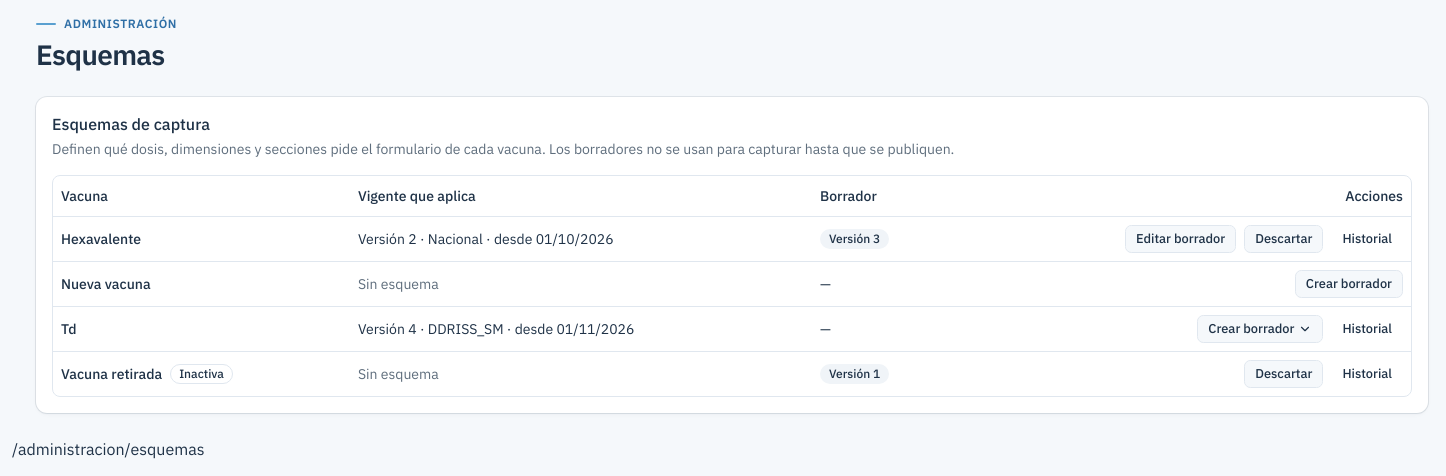
Test: crear un borrador › con vigente, "Empezar vacío" va al editor con origen=vacio
Press Enter in the button with aria-label "Crear borrador de TD", box [1197,315,1324,343]
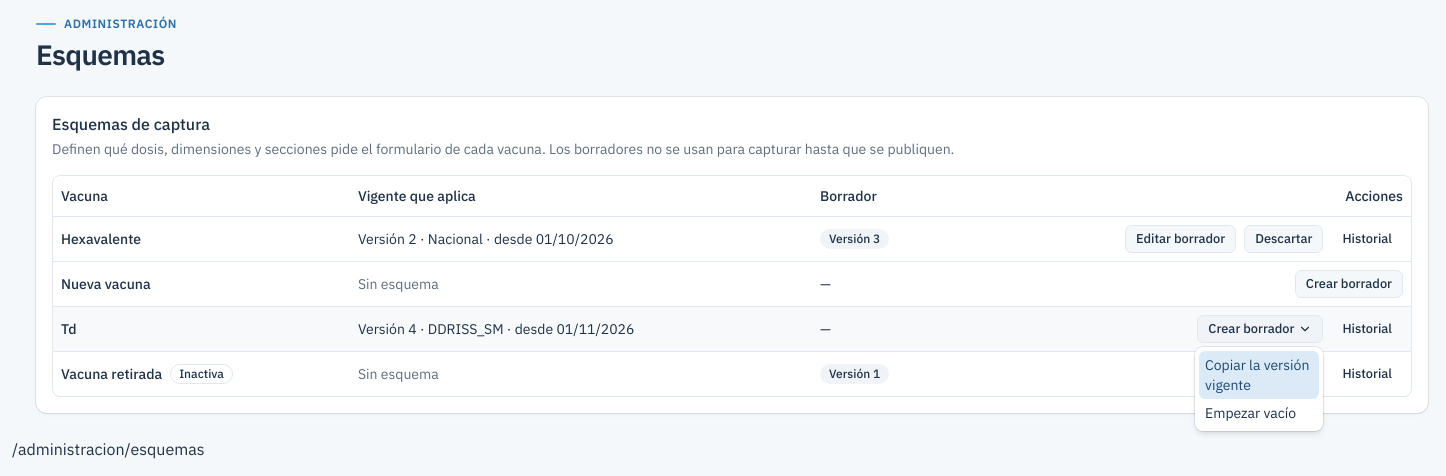
Now the menu items read "Copiar la versión vigente", "Empezar vacío", in this order
Click the menu item "Empezar vacío" at (1251, 413), box [1205,404,1296,422]
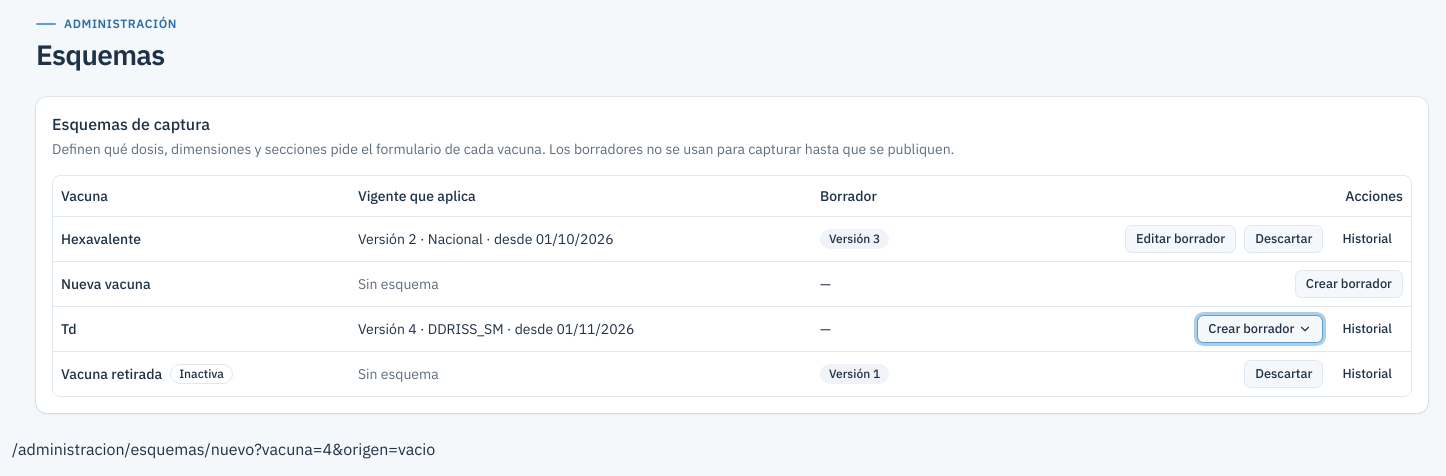
Now the text with test id "ubicacion" reads "/administracion/esquemas/nuevo?vacuna=4&origen=vacio", box [12,439,435,459]
